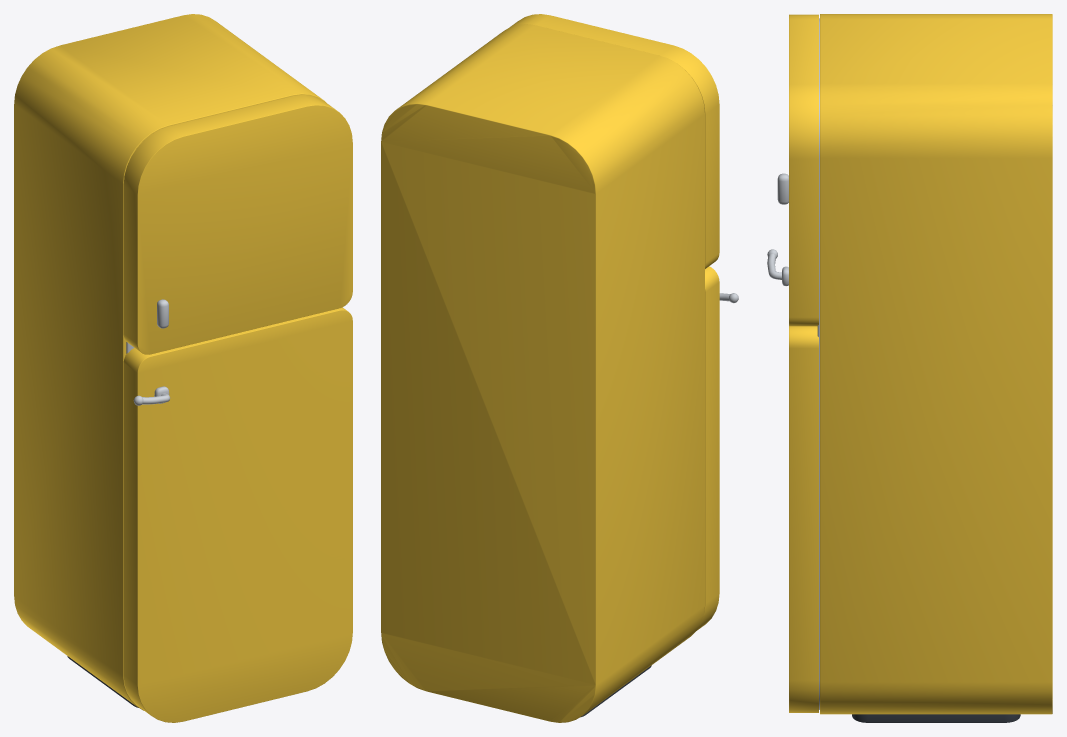
Rendered from geladeira_retro_redonda_amarela.glb.
3 renders of one model, left to right at view 1: azimuth 30°, elevation 25°; view 2: azimuth 150°, elevation 25°; view 3: azimuth 270°, elevation 25°, orthographic. The views are drawn at different scales.
Parts seen in each view (by area): view 1: porta_geladeira, geladeira_retro_redonda_amarela, porta_congelador; view 2: geladeira_retro_redonda_amarela, porta_congelador, porta_geladeira; view 3: geladeira_retro_redonda_amarela, porta_geladeira, porta_congelador.
Boxes of the visible parts, <box> form: porta_geladeira: <box>123,307,352,722</box>; geladeira_retro_redonda_amarela: <box>14,14,326,710</box>; porta_congelador: <box>123,95,352,354</box>; geladeira_retro_redonda_amarela: <box>381,24,704,722</box>; porta_congelador: <box>510,14,719,268</box>; porta_geladeira: <box>697,266,738,630</box>; geladeira_retro_redonda_amarela: <box>817,14,1052,722</box>; porta_geladeira: <box>767,249,818,712</box>; porta_congelador: <box>777,14,818,326</box>.
Size of the model in its own units: 0.6935 by 1.74 by 0.711.
Materials: 1 (1 with a texture image).
